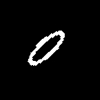chain: (28, 31, 64, 64)
